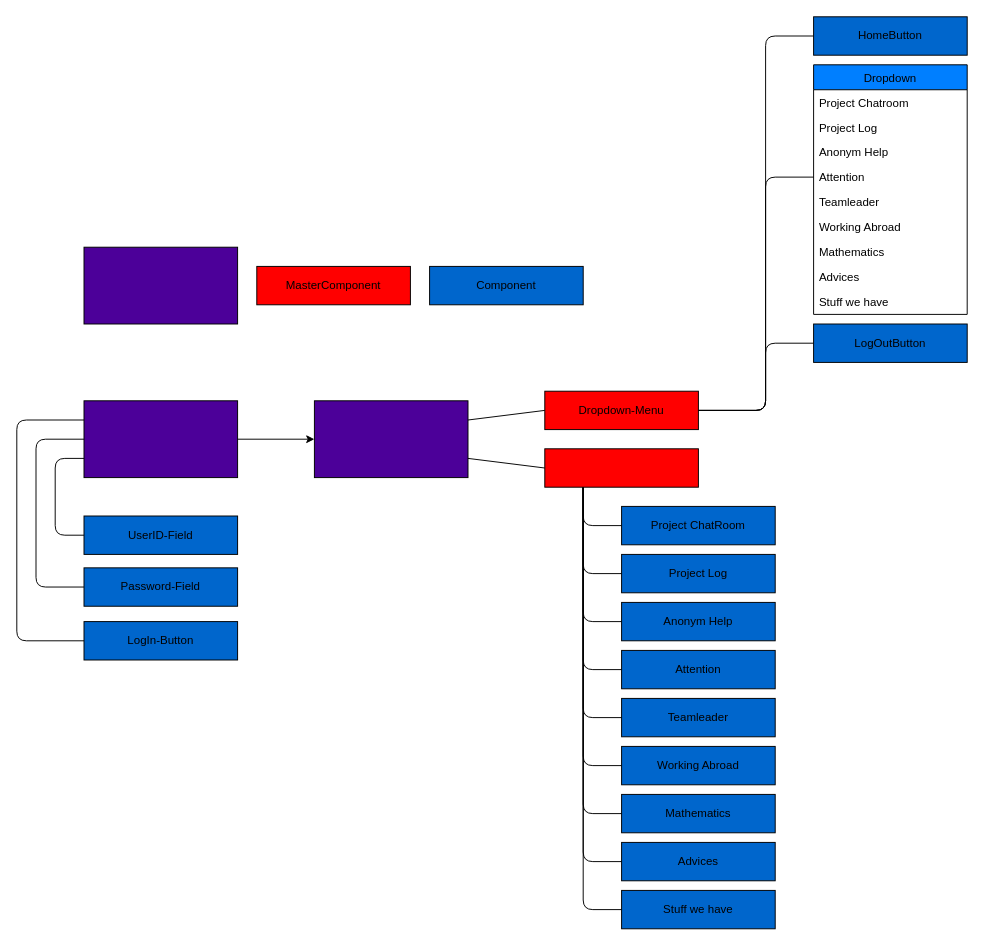
Some shapes in this 984 by 946 pixel diagram are drawn without their labels. Each missing label, with the centre of its shape:
LogIn: (x=160, y=439)
Main-Menu: (x=390, y=439)
Redirect-Buttons: (x=621, y=467)
Site: (x=160, y=285)
